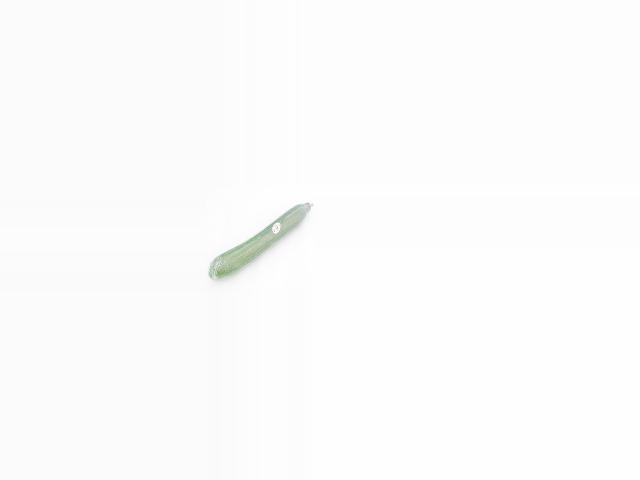cucumber: (209, 202, 313, 279)
